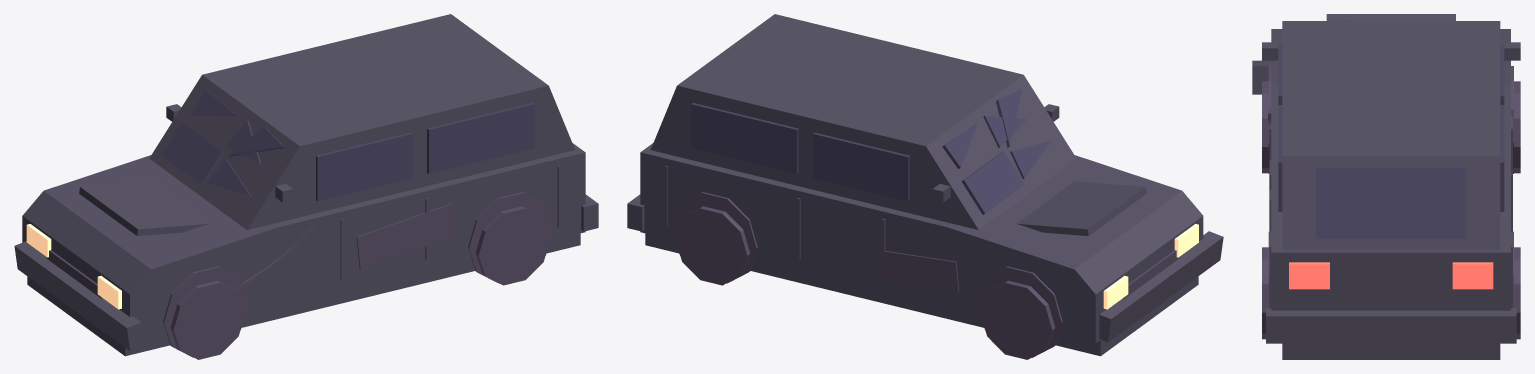
The model's file is VehicleBarricadeCracked.glb.
3 renders of one model, left to right at view 1: azimuth 30°, elevation 25°; view 2: azimuth 150°, elevation 25°; view 3: azimuth 270°, elevation 25°, orthographic. The views are drawn at different scales.
Visible parts, largest first — view 1: cab, chassis, side-window (×2), wheel (×2), dent (×2), bumper (×2), base, wheel-arch (×2), windscreen, headlight (×2), windscreen-shard-1, windscreen-shard-2 (+3 smaller); view 2: cab, chassis, side-window (×2), wheel (×2), dent (×2), base, bumper (×2), wheel-arch (×2), windscreen, headlight (×2), windscreen-shard-1, windscreen-shard-2 (+3 smaller); view 3: cab, chassis, rear-window, bumper (×2), base, wheel (×4), taillight (×2), side-window (×4), dent, mirror (×2), wheel-arch.
Boxes of the visible parts, box(x1,y1,x2,y2) form: cab: box(149, 14, 574, 229); chassis: box(22, 143, 585, 339); side-window (×2): box(316, 103, 534, 201); wheel (×2): box(170, 206, 550, 359); dent (×2): box(79, 181, 455, 269); bumper (×2): box(14, 194, 598, 351); base: box(27, 233, 580, 356); wheel-arch (×2): box(163, 192, 553, 357); windscreen: box(161, 122, 224, 185); headlight (×2): box(26, 224, 121, 309); windscreen-shard-1: box(228, 127, 284, 156); windscreen-shard-2: box(208, 160, 251, 196); cab: box(650, 14, 1076, 229); chassis: box(640, 143, 1203, 343); side-window (×2): box(691, 103, 909, 201); wheel (×2): box(675, 206, 1055, 359); dent (×2): box(884, 181, 1146, 291); base: box(645, 233, 1198, 356); bumper (×2): box(627, 194, 1223, 342); wheel-arch (×2): box(672, 192, 1062, 357); windscreen: box(961, 151, 1024, 214); headlight (×2): box(1103, 224, 1198, 309); windscreen-shard-1: box(996, 88, 1022, 147); windscreen-shard-2: box(1010, 140, 1050, 179); cab: box(1282, 21, 1500, 249); chassis: box(1271, 29, 1510, 310); rear-window: box(1316, 167, 1466, 238); bumper (×2): box(1252, 60, 1516, 343); base: box(1282, 343, 1500, 359); wheel (×4): box(1262, 81, 1520, 339); taillight (×2): box(1289, 262, 1493, 289); side-window (×4): box(1278, 44, 1504, 211); dent: box(1326, 14, 1455, 20); mirror (×2): box(1262, 42, 1520, 60); wheel-arch: box(1268, 66, 1271, 173).
Size of the model in its own units: 4.51 by 1.62 by 1.97.
